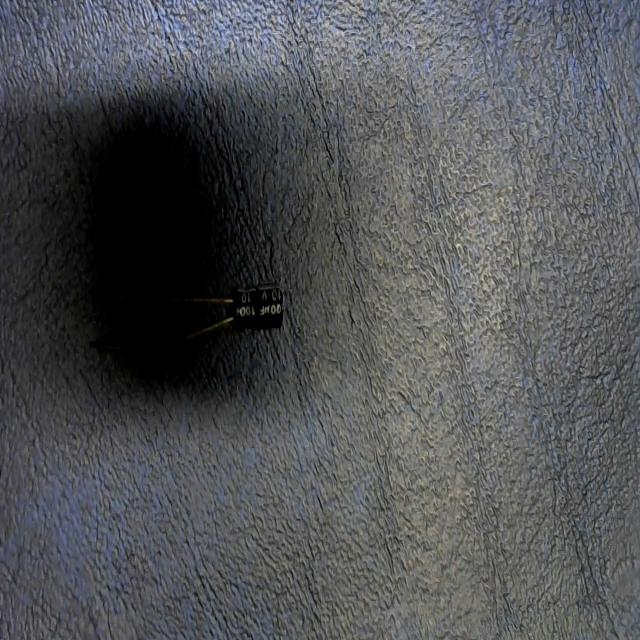capacitor: (131, 282, 285, 350)
